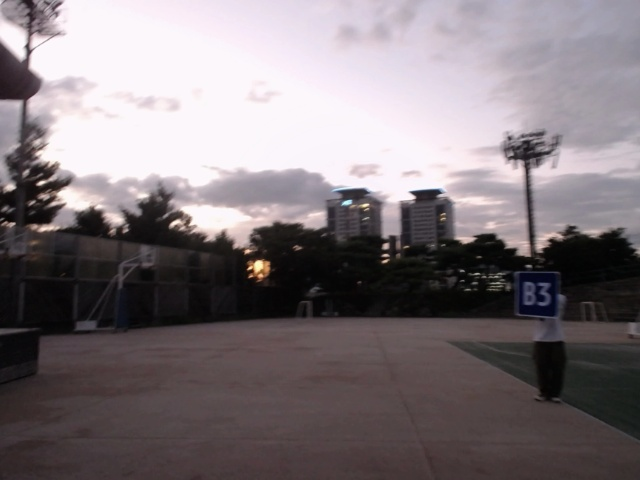delivery_b3: (515, 270, 561, 321)
